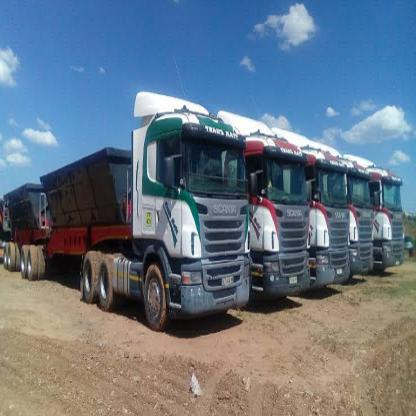dump_truck: (0, 79, 252, 338), (249, 103, 313, 312), (311, 128, 350, 293), (374, 159, 412, 283), (350, 152, 372, 286)
